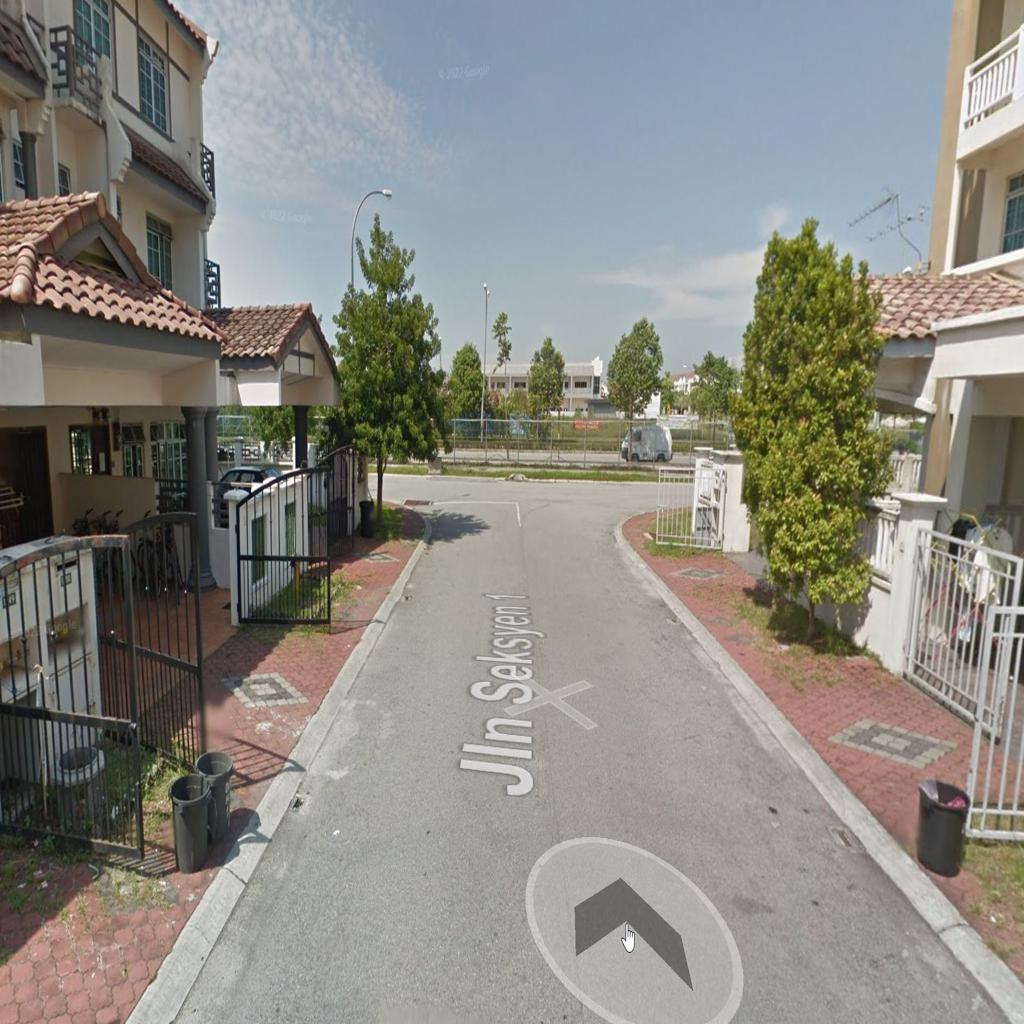Junction: (585, 457, 703, 555), (356, 455, 462, 535)
